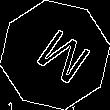M_SW: (22, 21, 88, 89)
